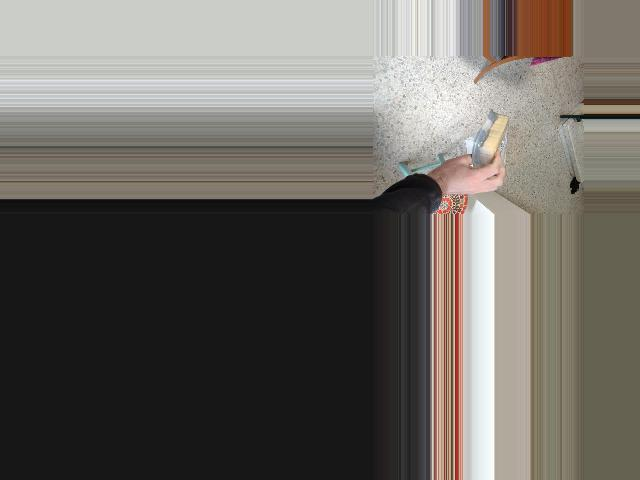cheese: (469, 105, 508, 193)
